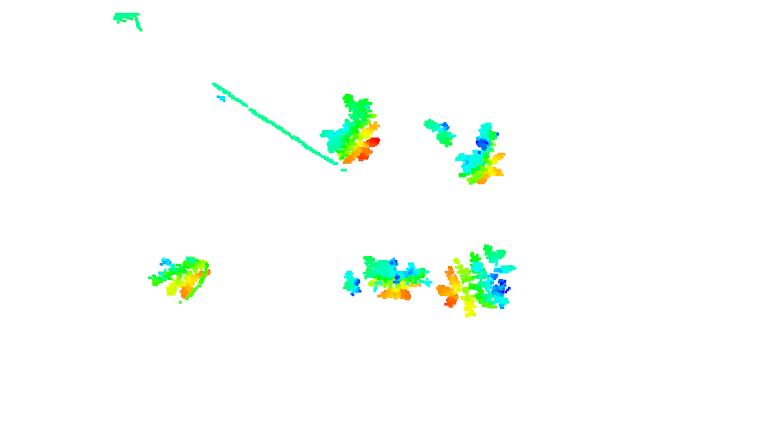chickpea: (435, 245, 520, 315), (317, 93, 382, 167), (345, 258, 432, 306), (456, 119, 508, 187), (147, 252, 213, 303), (422, 114, 458, 150)
